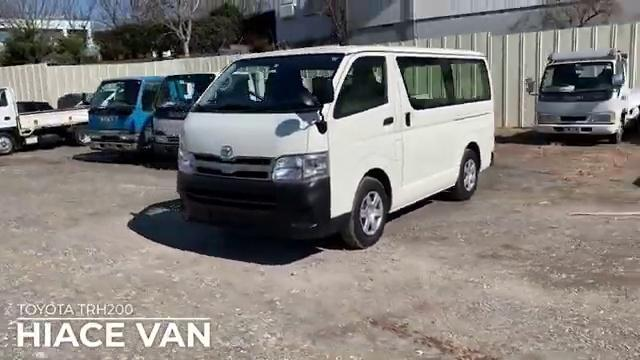van: (179, 51, 496, 242)
